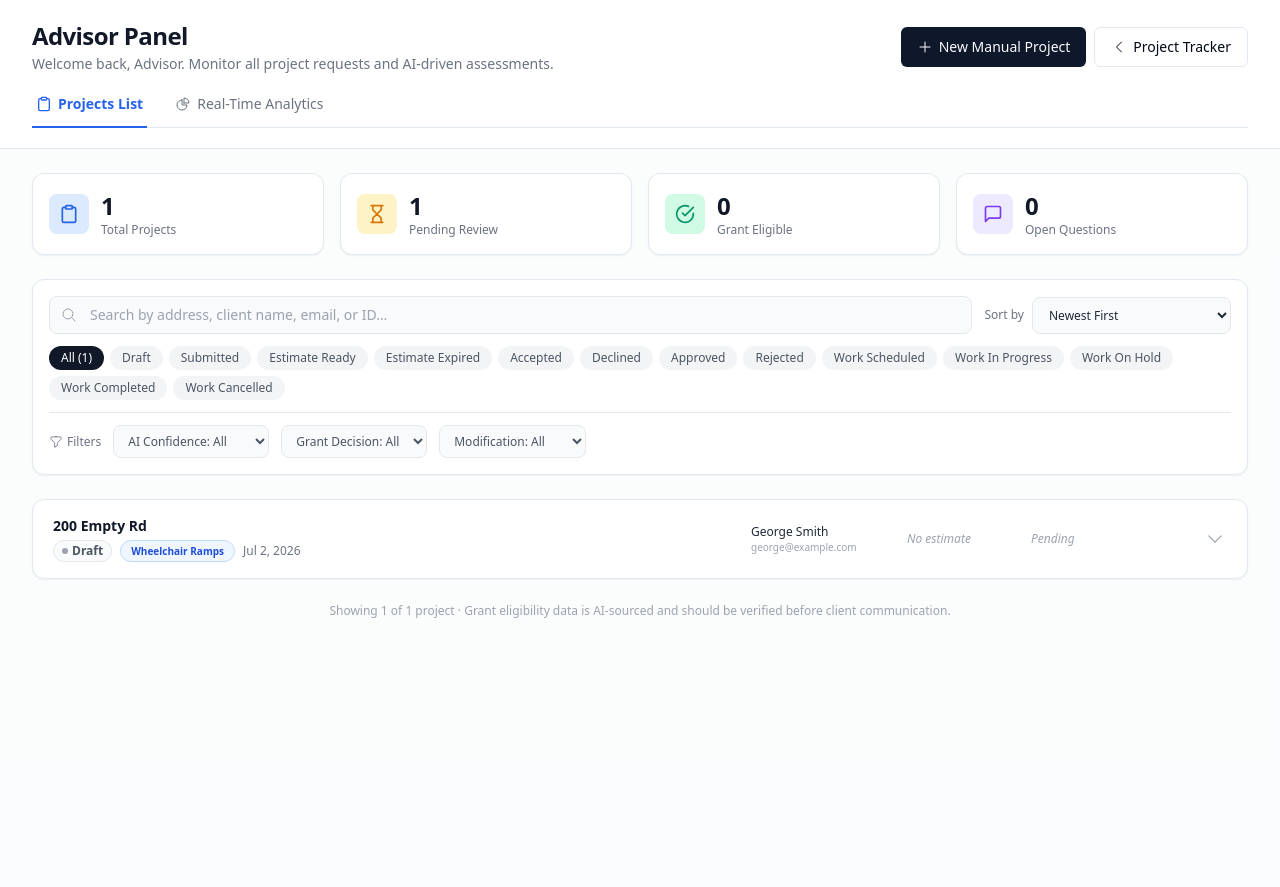
Admin Dashboard Detail View › handles empty or missing submission data gracefully
This screenshot has width=1280, height=887.
Click the text "200 Empty Rd" at [100, 526], box x1=53 y1=516 x2=147 y2=535
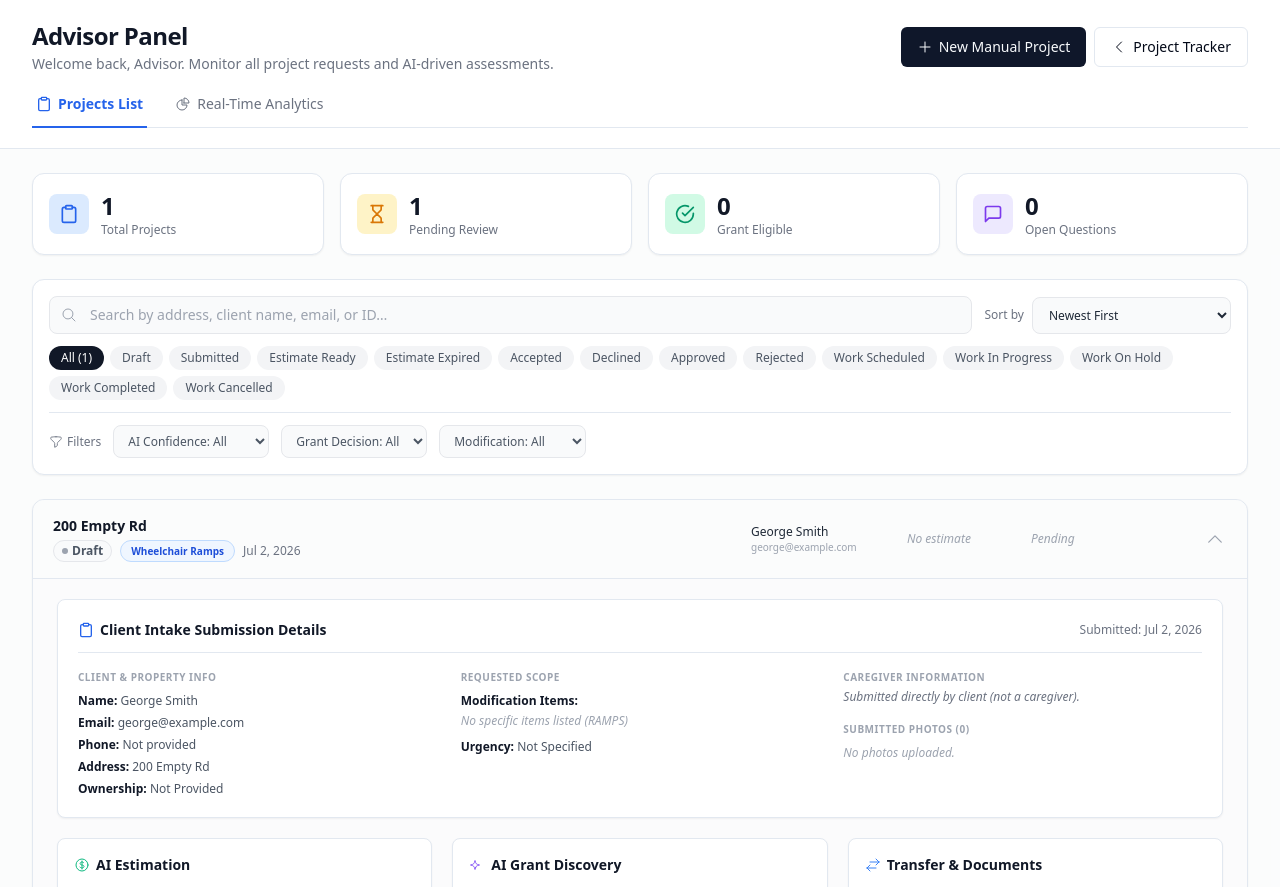
Now the heading "Client Intake Submission Details" is shown, box x1=78 y1=620 x2=327 y2=640
Now the text "Submitted directly by client (not a caregiver)." is shown, box x1=843 y1=688 x2=1080 y2=705
Now the text "No photos uploaded." is shown, box x1=843 y1=744 x2=955 y2=761
